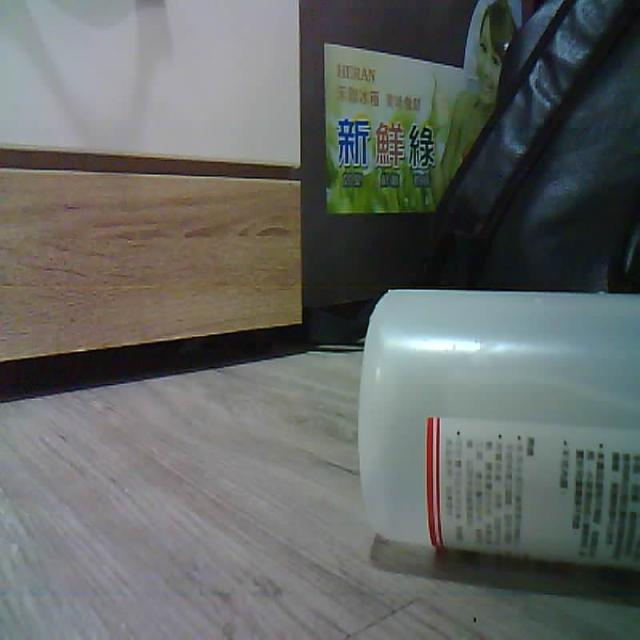bottle: (358, 290, 639, 571)
